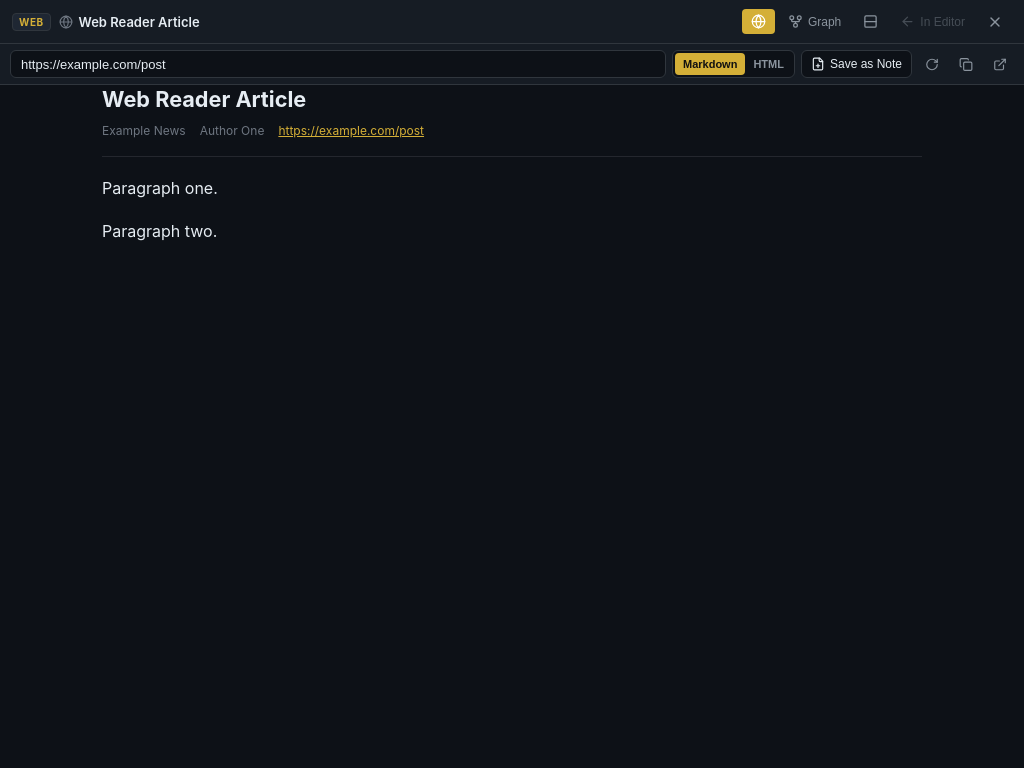
Scenario: FileTree Auto-Reveal, Blockquotes, Web Reader & Quote Drag-and-Drop › 5. ResearchPane renders Markdown reader toggle, triggers Save as Note, sets x-zuber-quote on dragstart, and triggers Quick-Quote popover
The width and height of the screenshot is (1024, 768).
Later steps or results of the test are not shown.
Check: the element with test id "research-web-reader" is shown, box [0,85,1023,261]
Check: the element with test id "research-web-reader" shows "Web Reader Article", box [102,86,306,112]
Step 1. Click the button with test id "research-web-save-note-btn" → (856, 64), box [801,50,912,78]
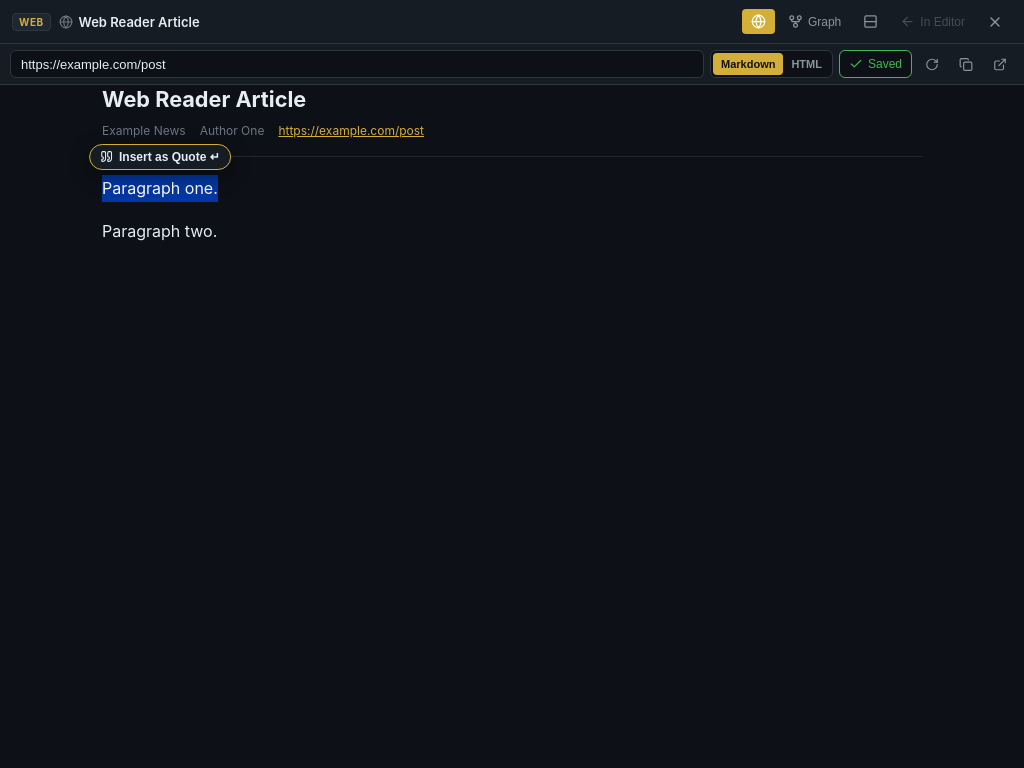
Check: the button with test id "research-quote-popover" is shown, box [89,144,231,170]
